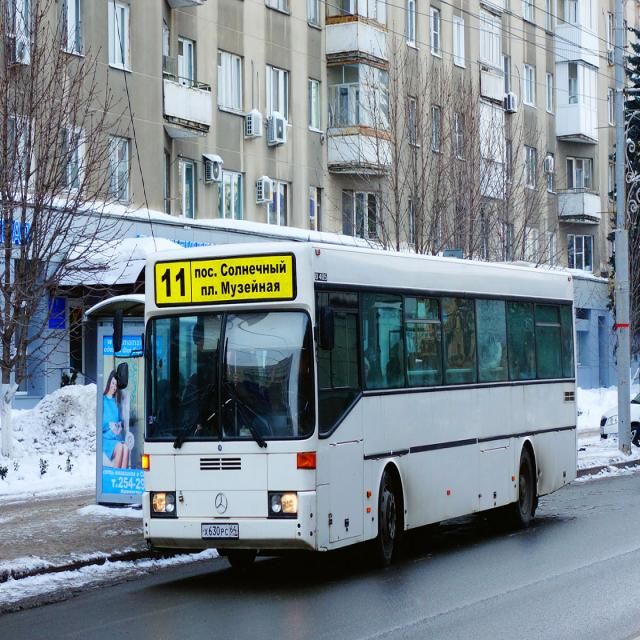number-of-bus: (159, 264, 189, 299)
